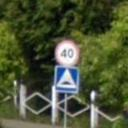speed_limit_40: (52, 39, 82, 67)
